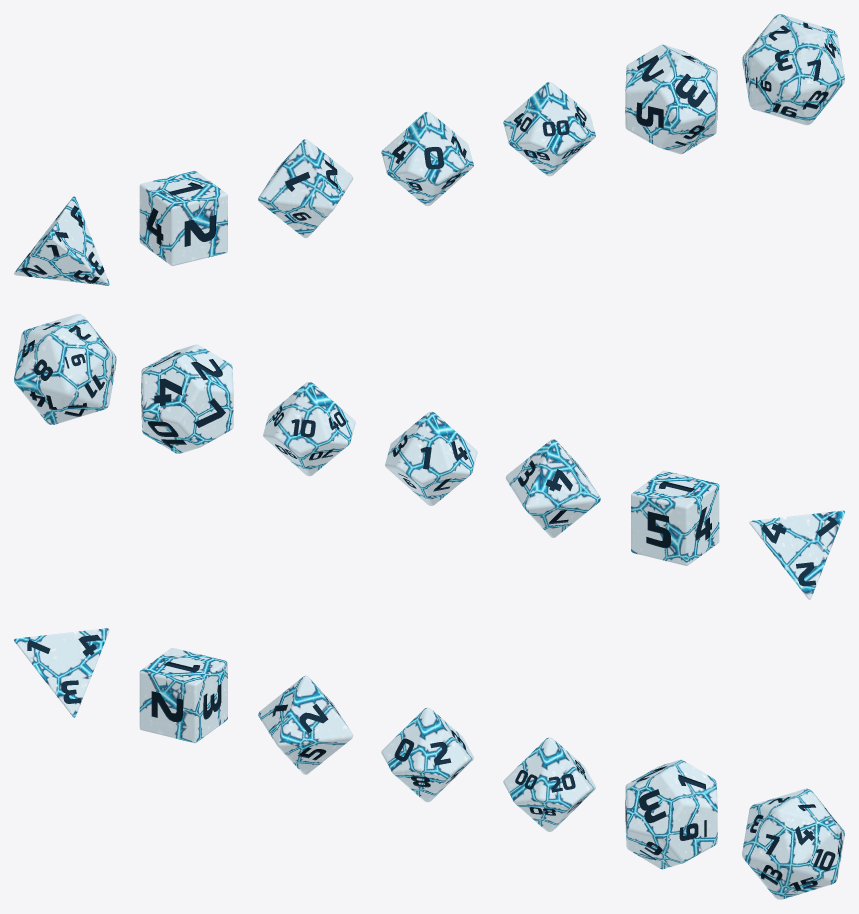
The model's file is glacial-rift.glb.
3 views of the same model, one above another, from view 1: azimuth 30°, elevation 25°; view 2: azimuth 150°, elevation 25°; view 3: azimuth 330°, elevation 25° (orthographic).
Visible parts, largest first — view 1: d20, d12, d6, d100, d10, d8, d4; view 2: d20, d12, d6, d100, d10, d8, d4; view 3: d20, d12, d6, d8, d100, d10, d4.
Boxes of the visible parts, bbox=[...] form: d20: bbox=[742, 14, 844, 125]; d12: bbox=[625, 44, 717, 154]; d6: bbox=[139, 170, 227, 266]; d100: bbox=[503, 82, 595, 176]; d10: bbox=[381, 111, 473, 206]; d8: bbox=[258, 139, 353, 238]; d4: bbox=[14, 196, 109, 285]; d20: bbox=[14, 314, 116, 424]; d12: bbox=[141, 344, 233, 453]; d6: bbox=[631, 470, 719, 565]; d100: bbox=[263, 382, 355, 476]; d10: bbox=[385, 411, 477, 505]; d8: bbox=[505, 439, 600, 537]; d4: bbox=[749, 510, 844, 599]; d20: bbox=[742, 788, 844, 899]; d12: bbox=[625, 759, 717, 869]; d6: bbox=[139, 647, 227, 743]; d8: bbox=[258, 675, 353, 774]; d100: bbox=[503, 737, 595, 831]; d10: bbox=[381, 707, 473, 802]; d4: bbox=[14, 628, 109, 717].
Bounding box in the file's own units: 21.14 × 2.47 × 2.47.
Materials: 14 (7 with a texture image).
